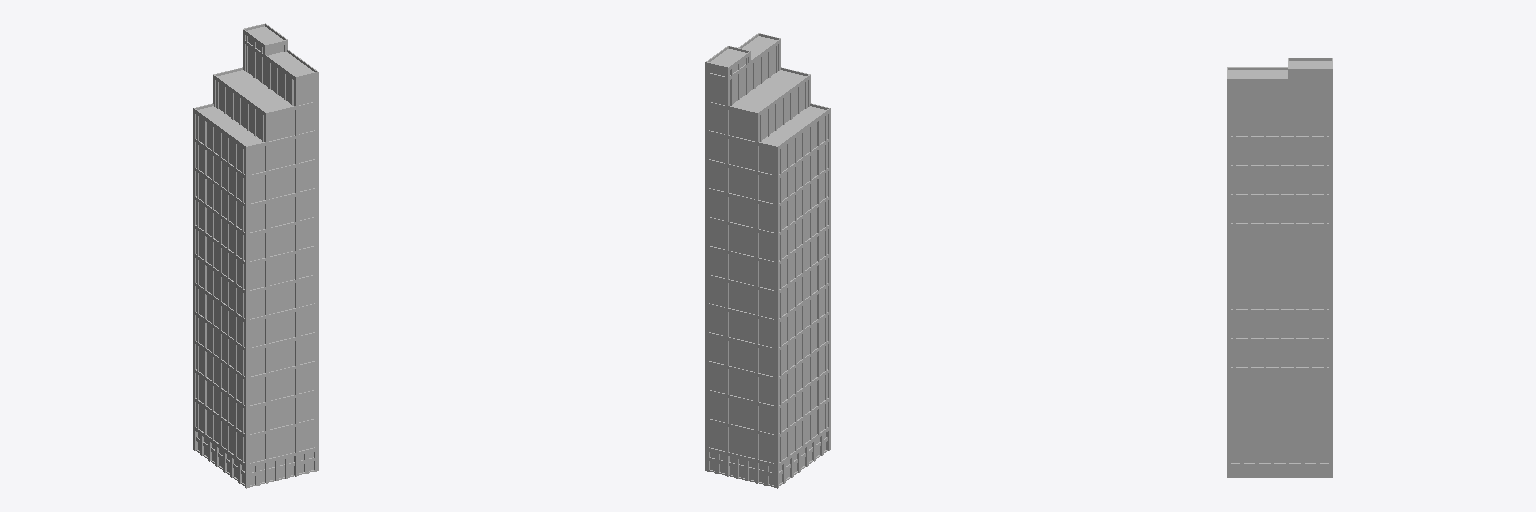
File: newYork2.obj
3 views of the same model, side by side, from view 1: azimuth 30°, elevation 25°; view 2: azimuth 150°, elevation 25°; view 3: azimuth 270°, elevation 25° (orthographic).
Parts seen in each view (by area): view 1: s7; view 2: s7; view 3: s7.
Boxes of the visible parts, x1,y1,x2,y2 form: s7: [193, 23, 318, 488]; s7: [705, 33, 830, 488]; s7: [1227, 58, 1332, 477].
Size of the model in its own units: 0.33 by 1.79 by 0.42.